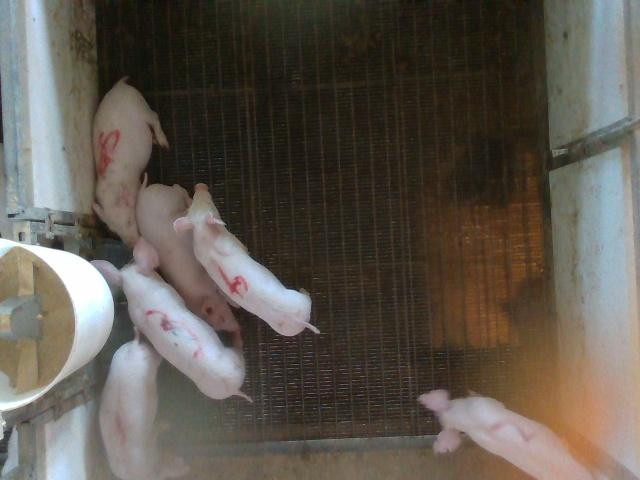pig-1: (100, 334, 162, 479)
pig-2: (419, 390, 592, 479)
pig-3: (91, 235, 249, 399)
pig-4: (174, 185, 319, 336)
pig-5: (92, 78, 169, 242)
